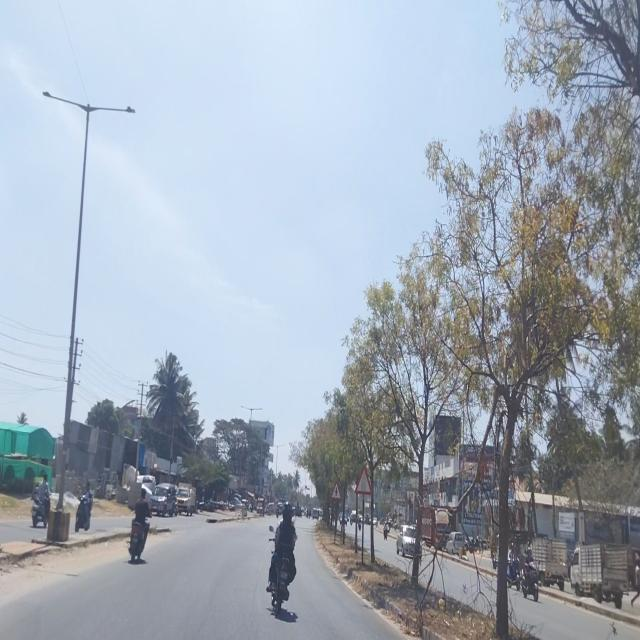bien_cam: (331, 481, 341, 501)
